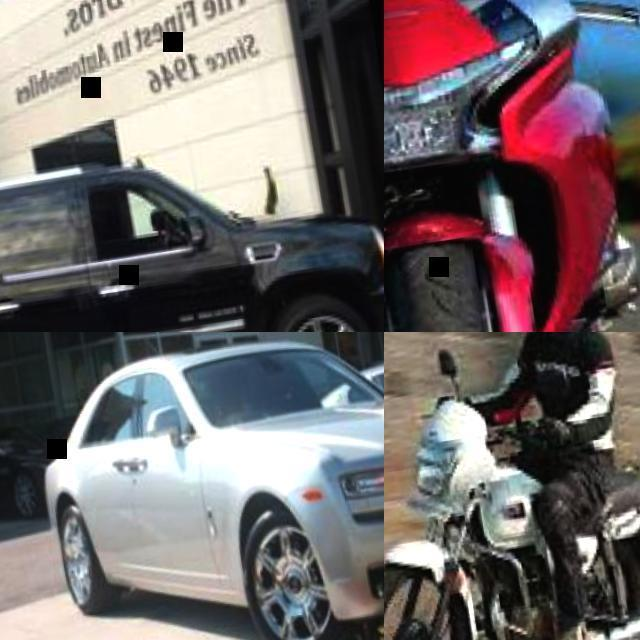car: (35, 328, 386, 639), (382, 0, 630, 332), (454, 437, 587, 639)
